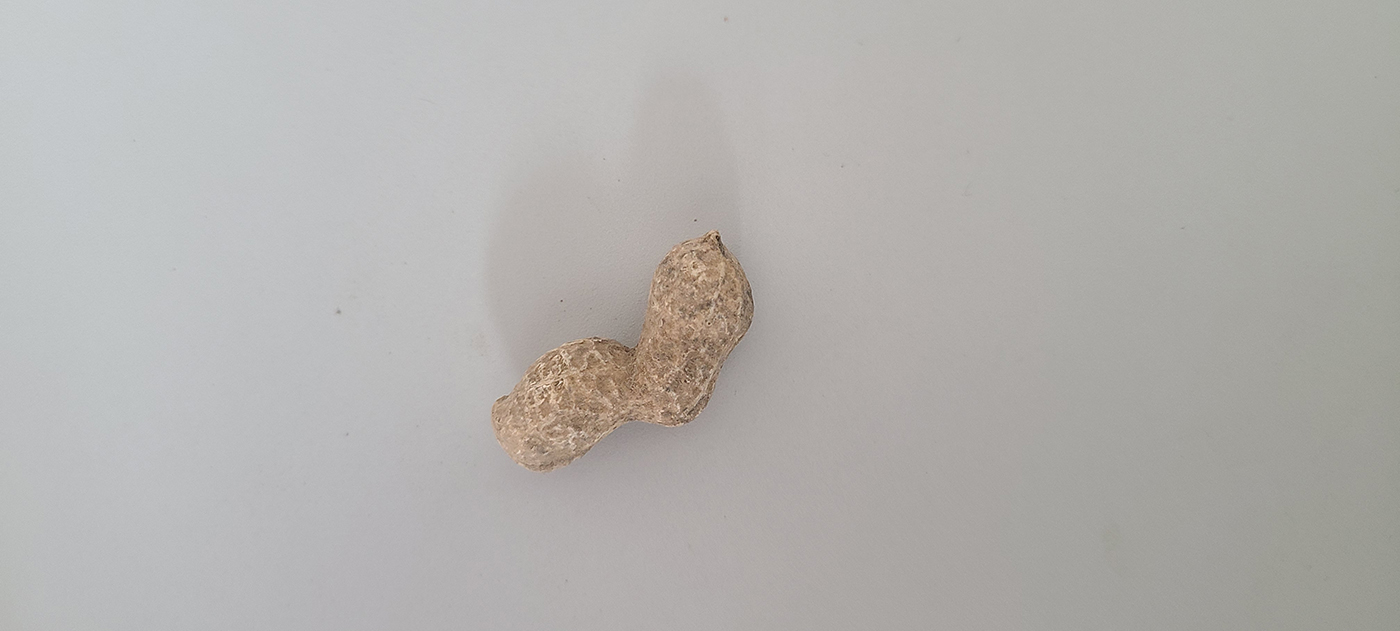h: (487, 230, 756, 471)
